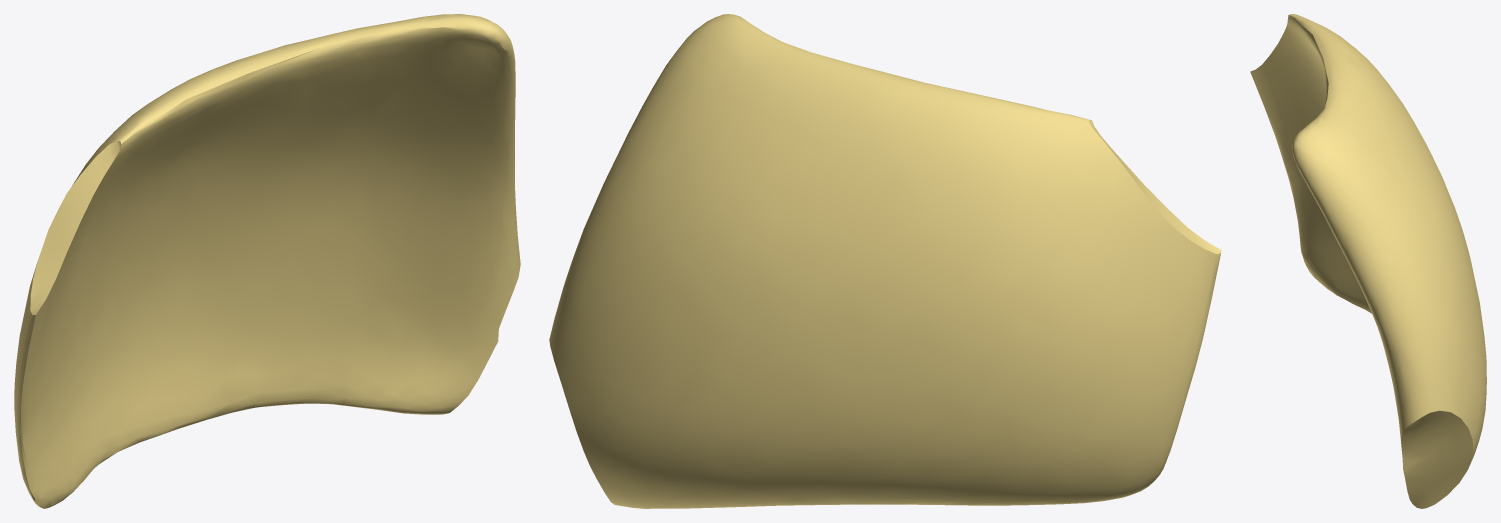
Rendered from fma73455_mm3604m.glb.
3 views of the same model, side by side, from view 1: azimuth 30°, elevation 25°; view 2: azimuth 150°, elevation 25°; view 3: azimuth 270°, elevation 25° (orthographic). The views are drawn at different scales.
Parts seen in each view (by area): view 1: FMA73455_MM3604M; view 2: FMA73455_MM3604M; view 3: FMA73455_MM3604M.
Boxes of the visible parts, box(x1,y1,x2,y2) form: FMA73455_MM3604M: box(14, 14, 520, 508); FMA73455_MM3604M: box(549, 14, 1221, 508); FMA73455_MM3604M: box(1250, 14, 1486, 508).
Bounding box in the file's own units: 0.00812 × 0.00608 × 0.00361.
